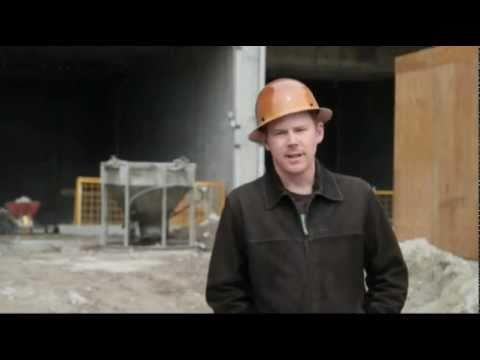helmet: (250, 82, 333, 140)
